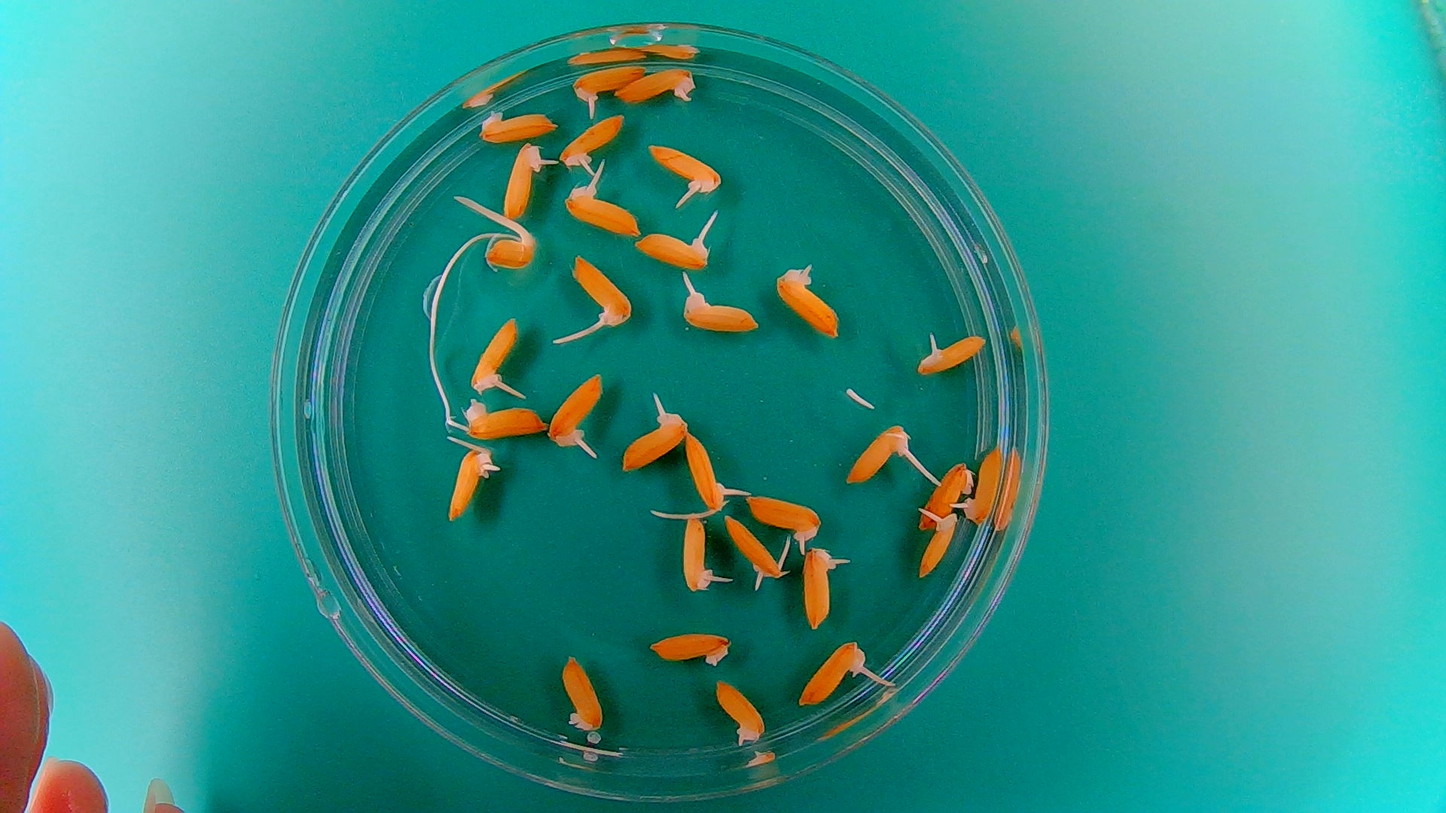no: (559, 650, 606, 734), (919, 459, 972, 530), (465, 397, 546, 441), (647, 627, 735, 666), (475, 105, 558, 145)
yes: (569, 251, 633, 331), (797, 638, 868, 708), (775, 269, 843, 341), (719, 514, 786, 586), (550, 367, 607, 449), (467, 312, 521, 394), (618, 408, 685, 473), (841, 424, 911, 486), (646, 143, 721, 198), (711, 676, 770, 741), (566, 187, 636, 240), (443, 447, 493, 521), (913, 328, 990, 376), (559, 113, 626, 167), (613, 64, 697, 107), (570, 62, 648, 108), (963, 444, 1006, 521), (742, 497, 819, 539), (688, 435, 728, 515), (801, 542, 837, 630), (635, 233, 715, 272), (678, 514, 715, 594), (503, 142, 541, 219), (680, 294, 755, 333), (915, 511, 956, 577), (481, 227, 538, 271)
